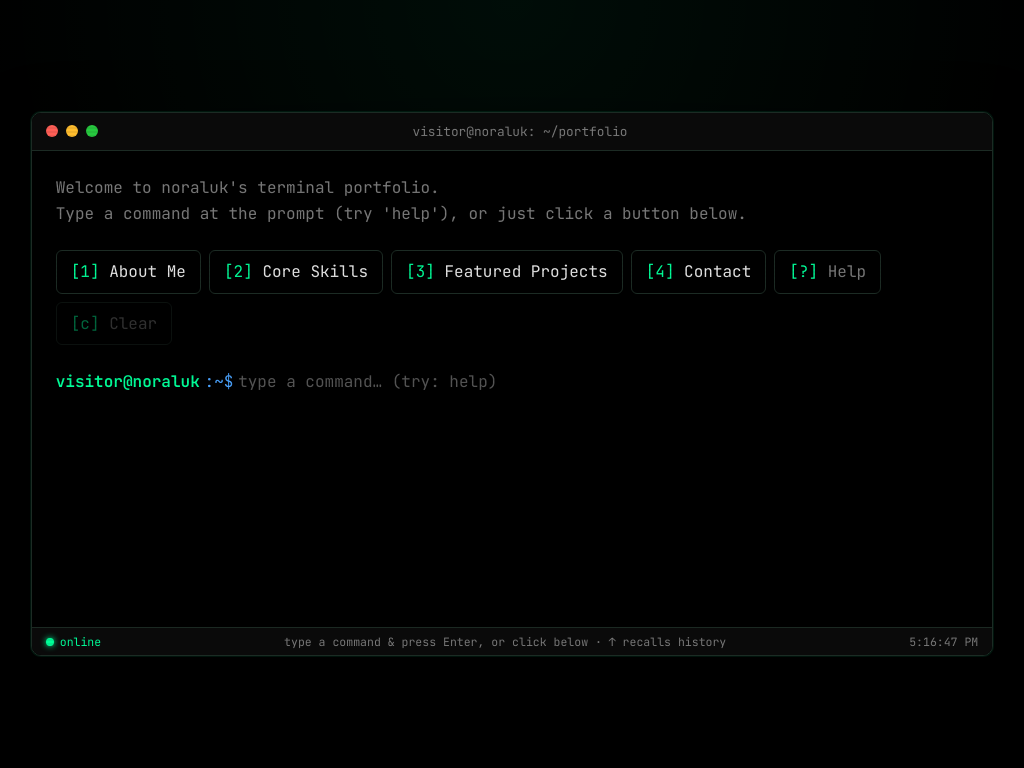
Terminal (reduced motion) › reports unknown commands
Step 1. Type "zzz" into the field → (603, 382), box [238,369,968,395]
Then press Enter
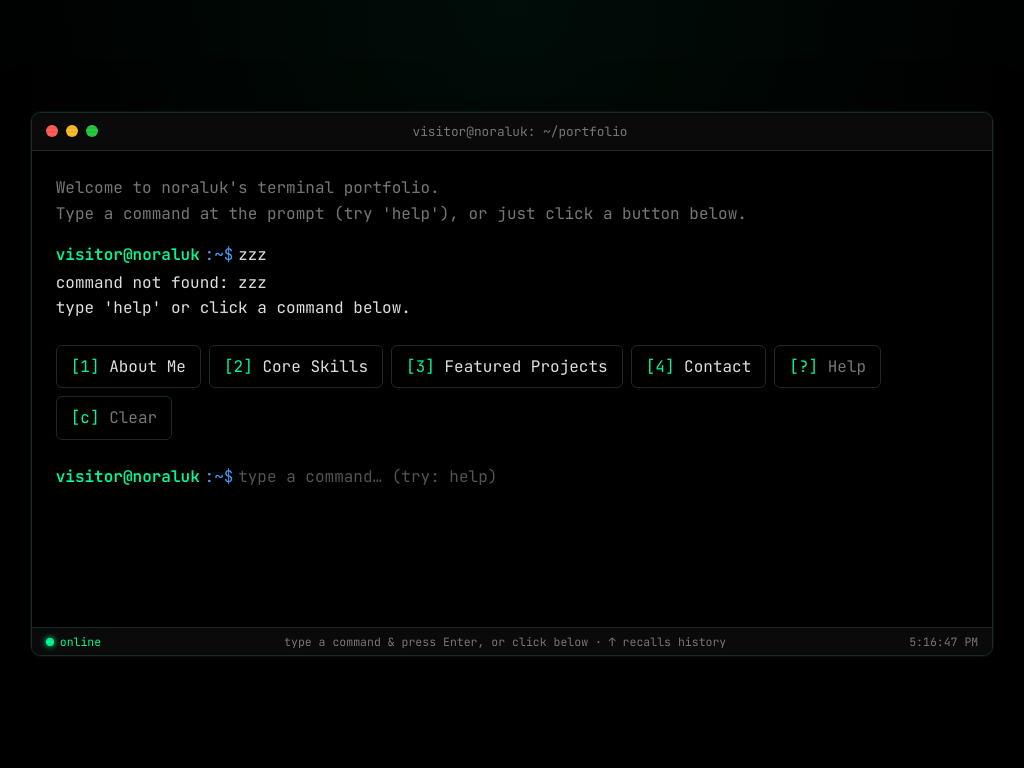
Now the text "command not found: zzz type 'help' or click a command below." is shown, box [56,272,411,318]
